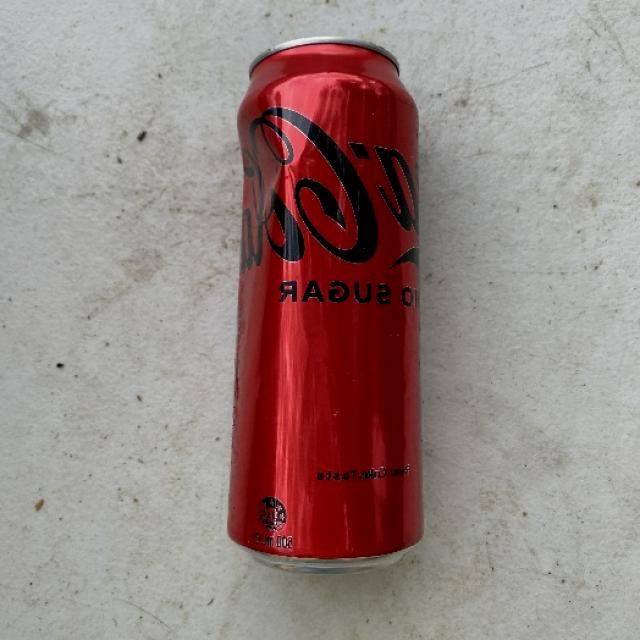inorganic: (205, 24, 428, 608)
